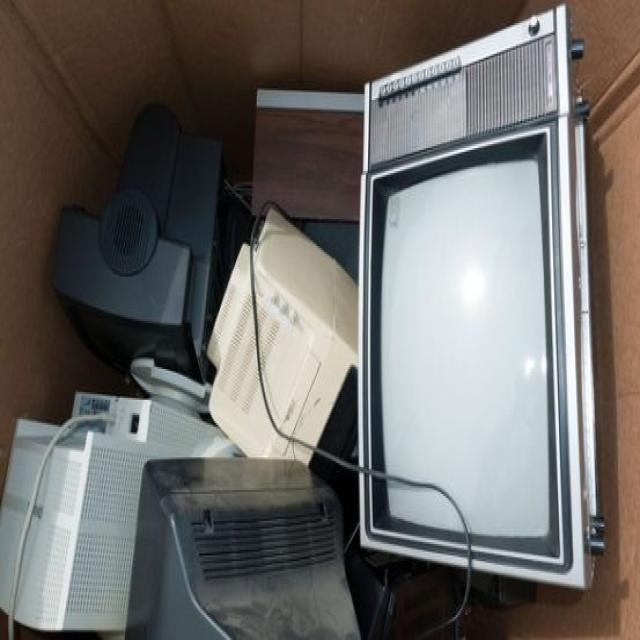electronic: (354, 2, 604, 594)
